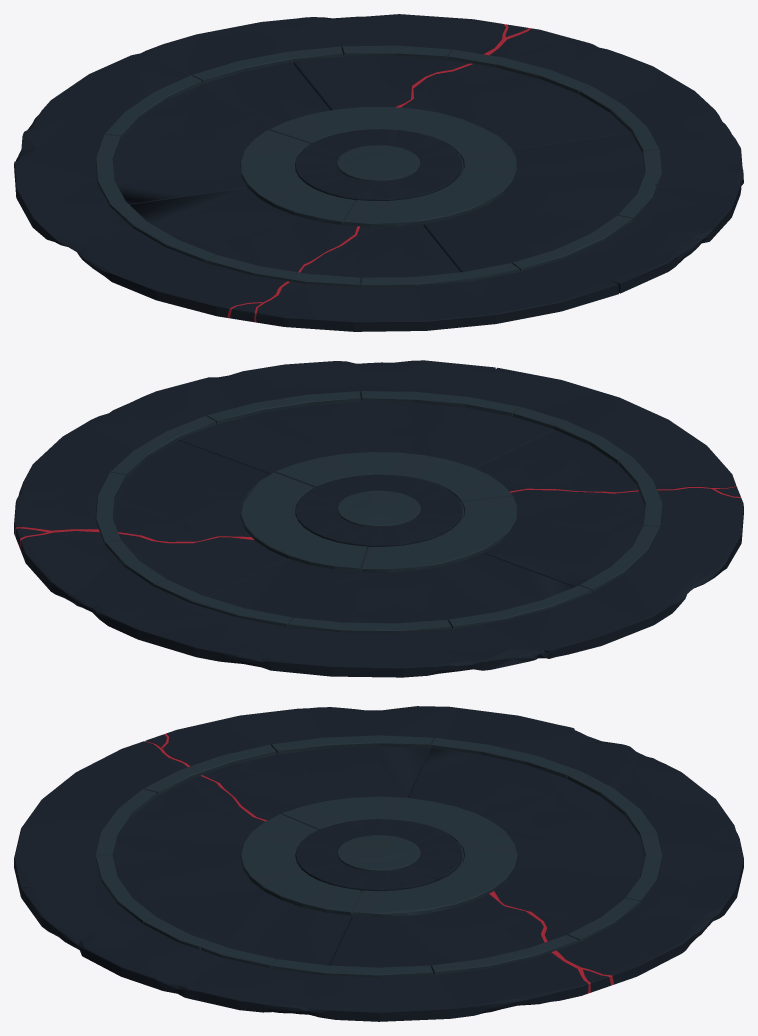
The model's file is Arena_dark_emissive.fbx.
The picture shows the model from 3 angles, top to bottom: view 1: azimuth 30°, elevation 25°; view 2: azimuth 150°, elevation 25°; view 3: azimuth 270°, elevation 25°; orthographic projection.
Visible parts, largest first — view 1: Arena_red_purple; view 2: Arena_red_purple; view 3: Arena_red_purple.
Boxes of the visible parts, box(x1,y1,x2,y2) form: Arena_red_purple: box(14, 14, 743, 331); Arena_red_purple: box(14, 360, 743, 677); Arena_red_purple: box(14, 706, 743, 1021).
Bounding box in the file's own units: 2113 × 51.58 × 2124.
